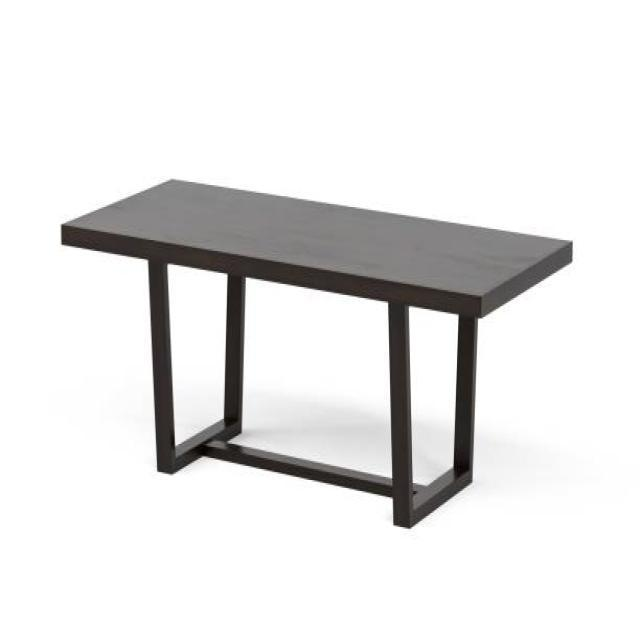table: (59, 176, 574, 528)
